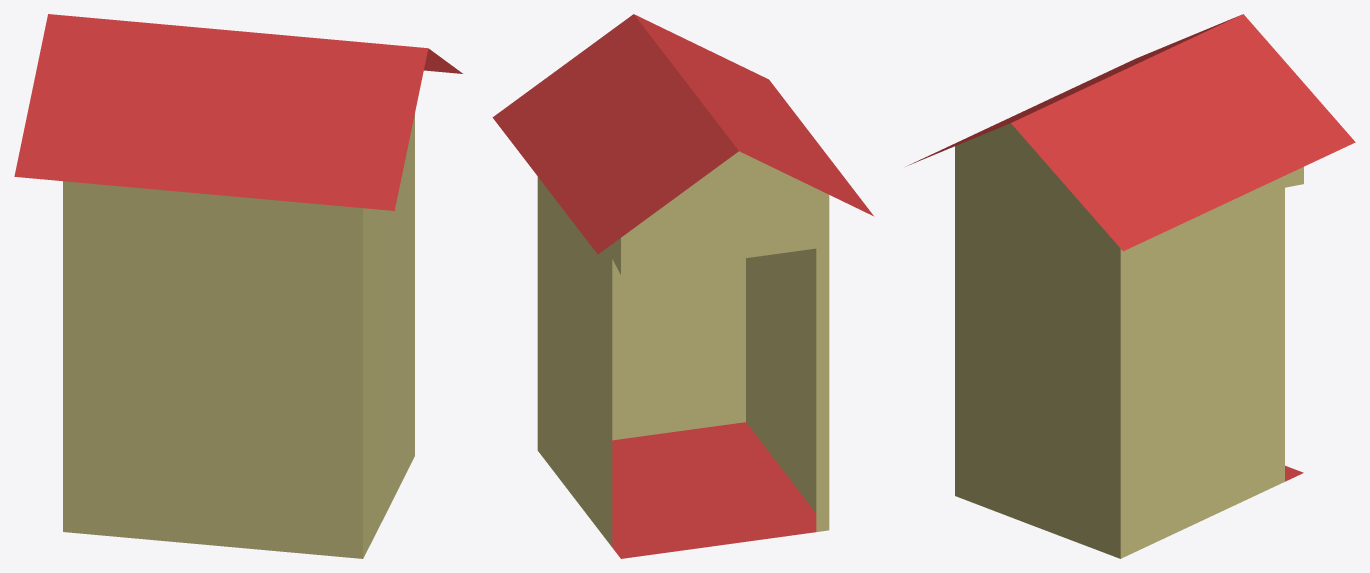
3 renders of one model, left to right at view 1: azimuth 30°, elevation 25°; view 2: azimuth 150°, elevation 25°; view 3: azimuth 270°, elevation 25°, orthographic. The views are drawn at different scales.
Size of the model in its own units: 12.47 by 12.36 by 12.51.
